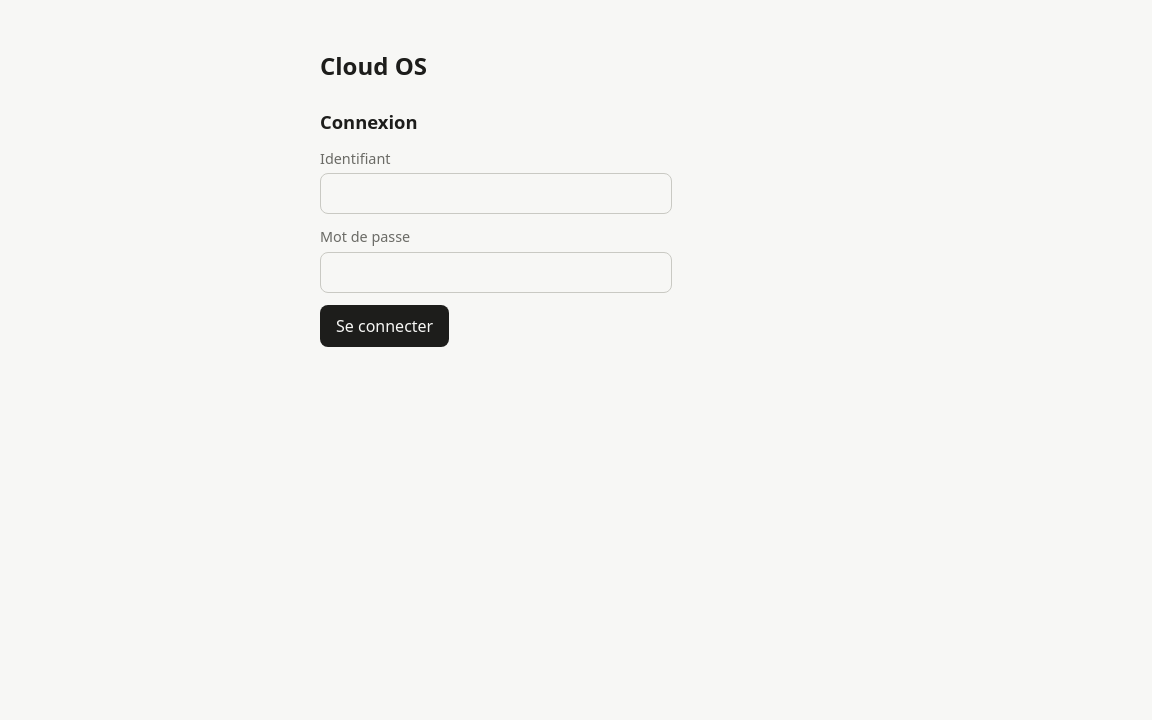
Test: App › asks to sign in when there is no session, and shows the error of a failed login
Check: the heading "Connexion" is shown, box [320, 109, 418, 134]
Type "johan" into the field labelled "Identifiant".
click(496, 194); type("johan")  # box [320, 173, 672, 214]
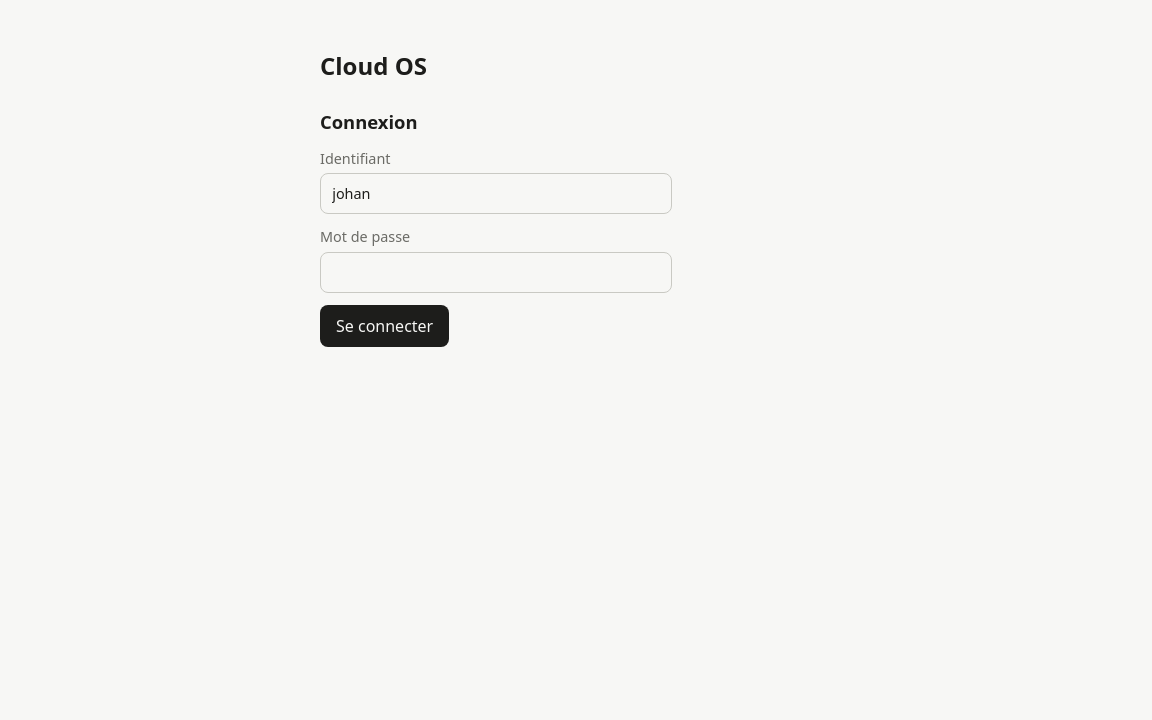
Type "nope" into the password field labelled "Mot de passe".
click(496, 273); type("nope")  # box [320, 252, 672, 293]
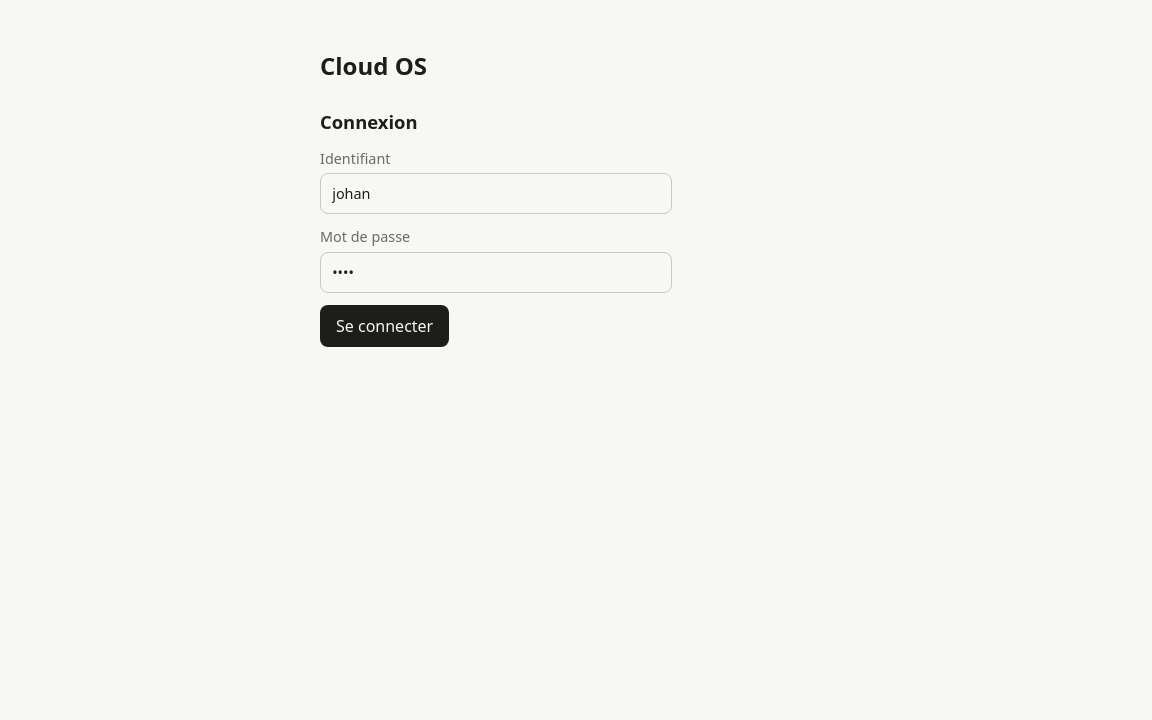
Click the button "Se connecter".
click(385, 326)  # box [320, 305, 449, 347]
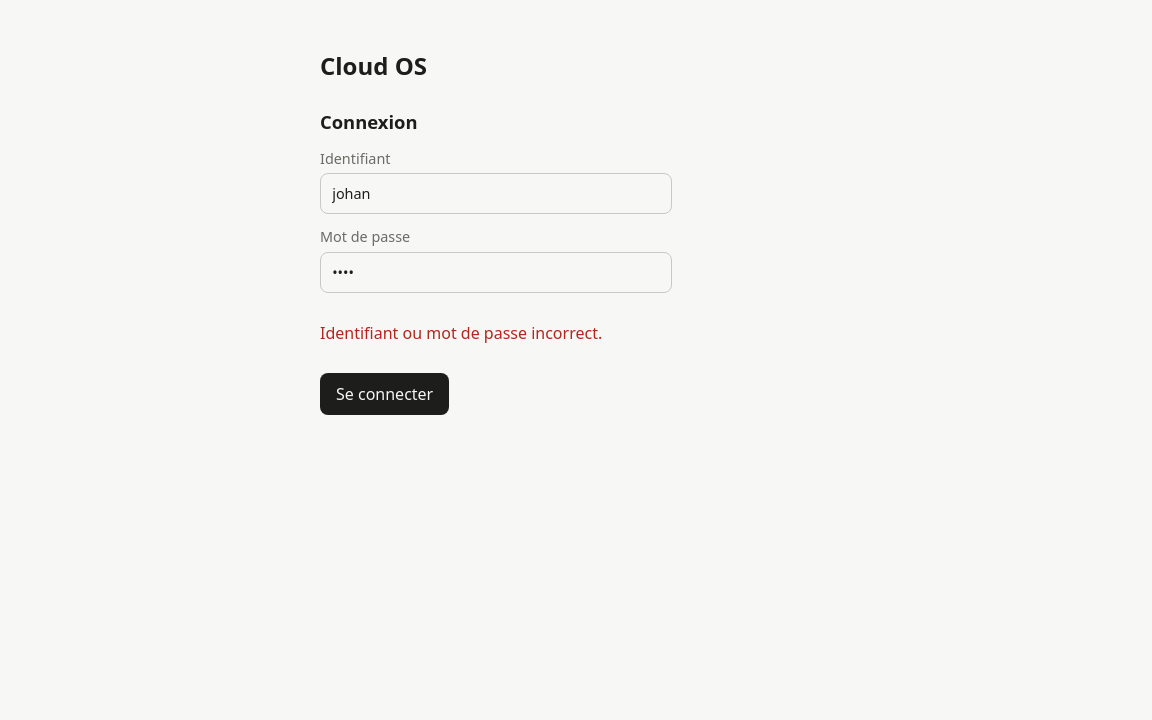
Check: the message reads "Identifiant ou mot de passe incorrect.", box [320, 322, 602, 344]
Click the button "Se connecter".
click(385, 394)  # box [320, 373, 449, 415]
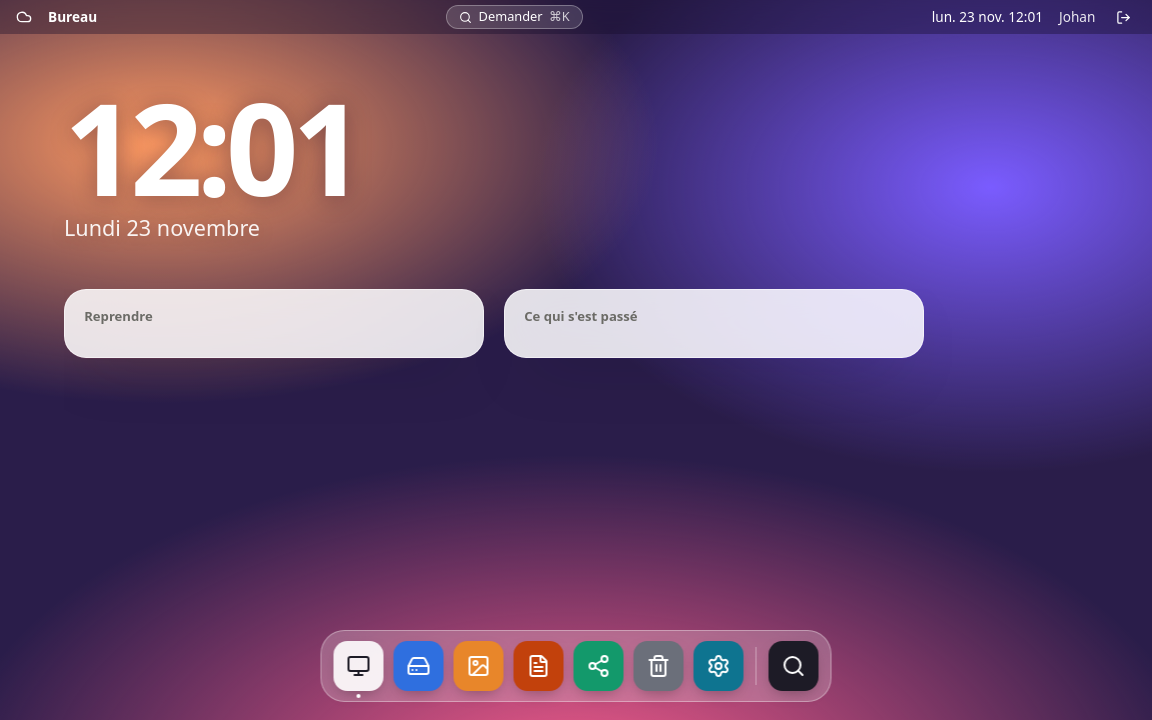
Check: the button named "Se déconnecter" is shown, box [1111, 5, 1136, 29]
